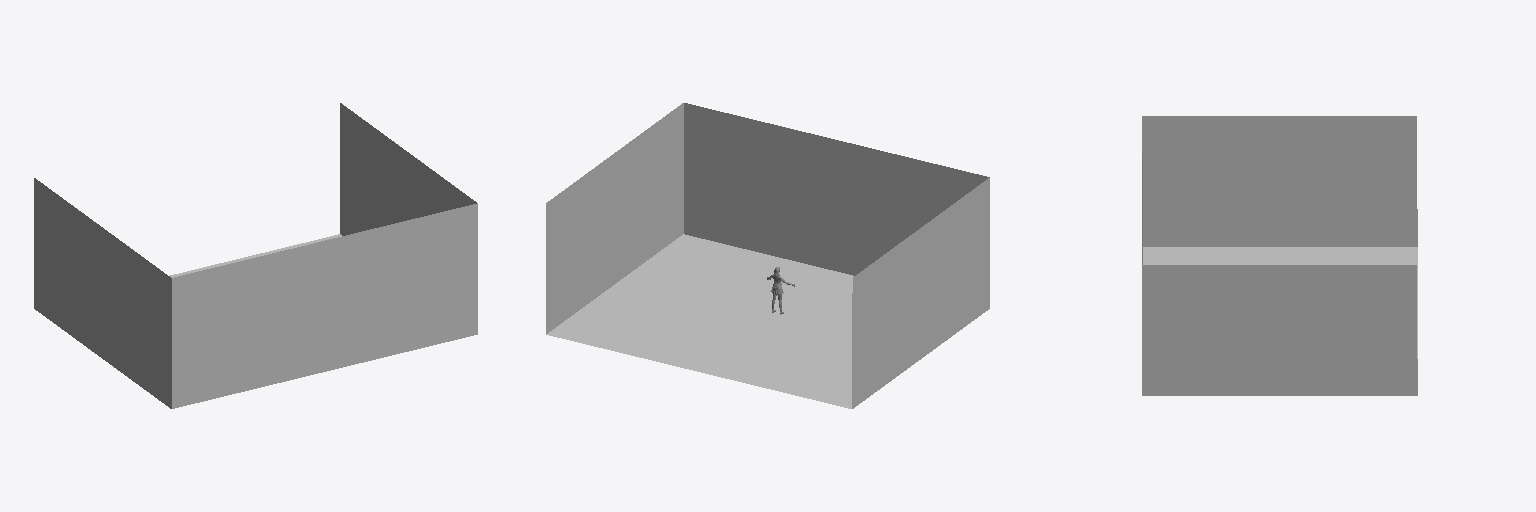
3 views of the same model, side by side, from view 1: azimuth 30°, elevation 25°; view 2: azimuth 150°, elevation 25°; view 3: azimuth 270°, elevation 25° (orthographic).
Parts seen in each view (by area): view 1: Cube; view 2: Cube; view 3: Cube.
Part boxes in pixels (bbox=[...]): Cube: bbox=[34, 103, 477, 408]; Cube: bbox=[546, 103, 989, 408]; Cube: bbox=[1142, 116, 1417, 395].
Size of the model in its own units: 11.76 by 4.82 by 9.15.